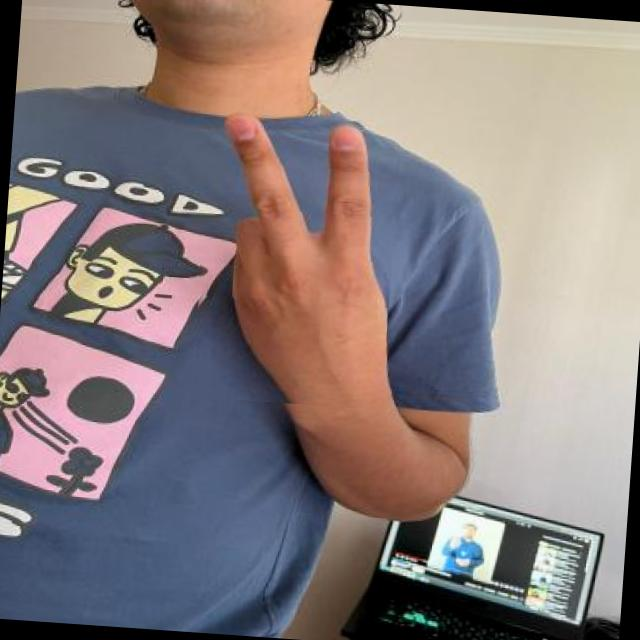V: (186, 92, 402, 410)
